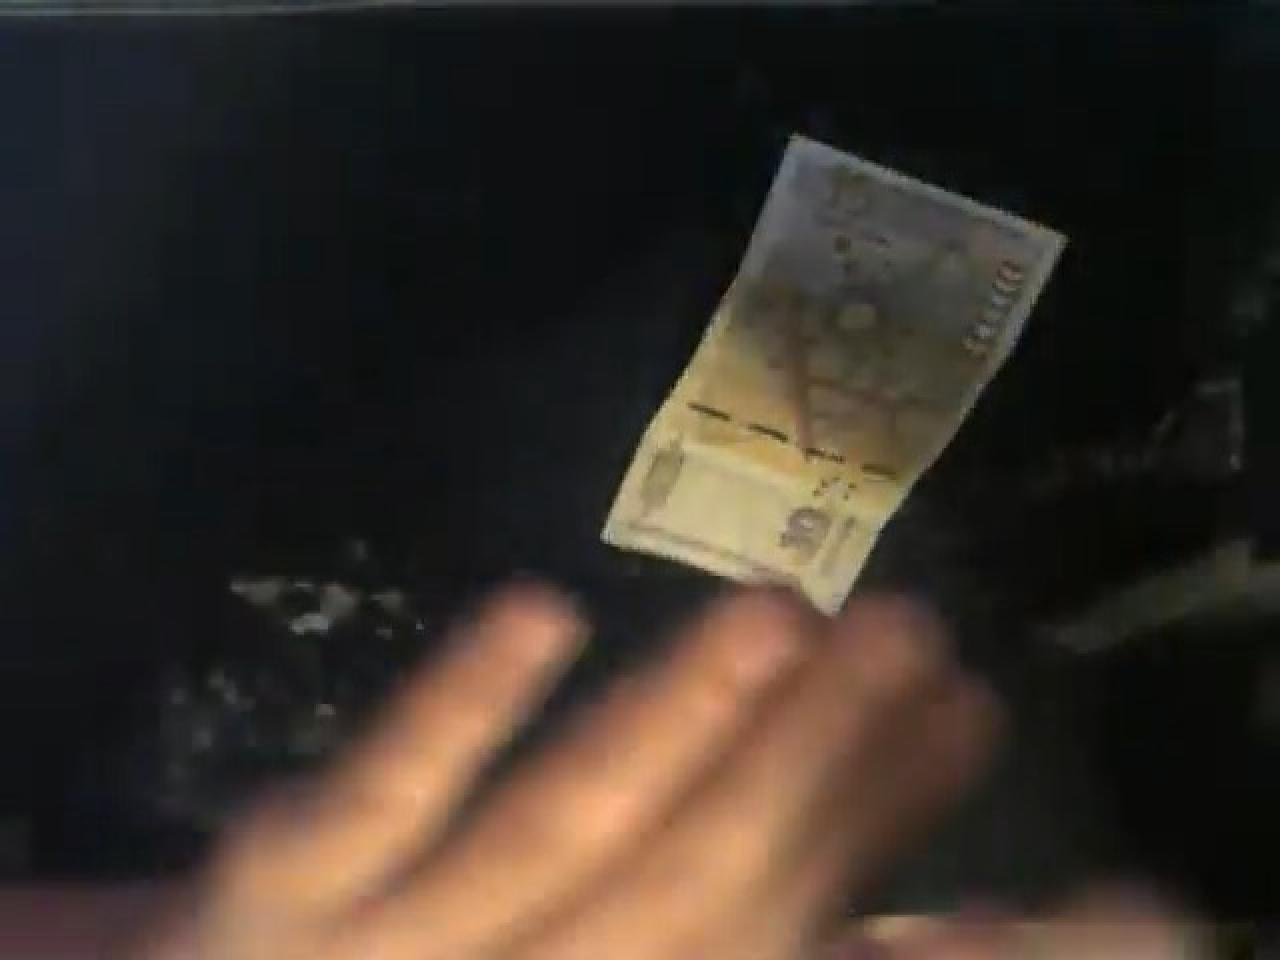10leva: (600, 128, 1068, 613)
